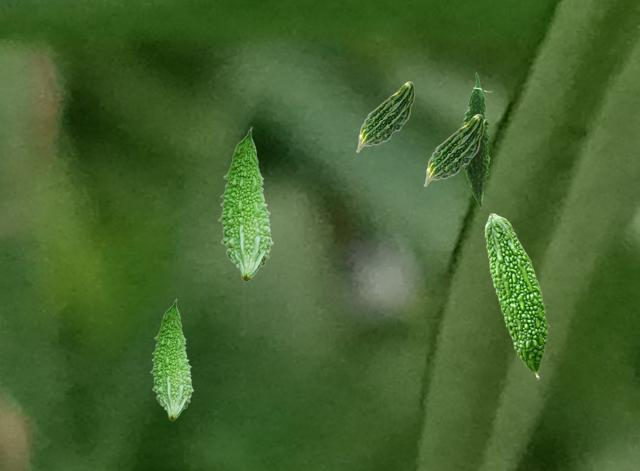ampalaya: (484, 213, 550, 380), (217, 126, 274, 282), (149, 298, 194, 421), (459, 71, 494, 209), (423, 113, 484, 187), (355, 81, 415, 153)
